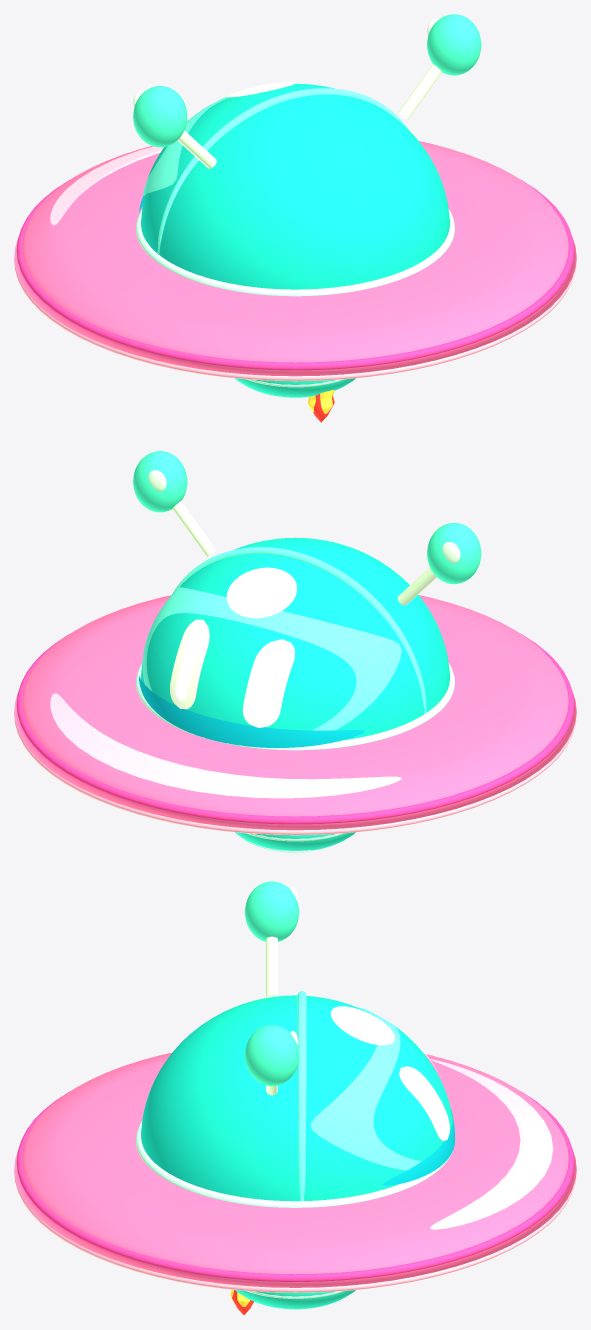
Rendered from ship-03.glb.
3 views of the same model, one above another, from view 1: azimuth 30°, elevation 25°; view 2: azimuth 150°, elevation 25°; view 3: azimuth 270°, elevation 25° (orthographic).
Visible parts, largest first — view 1: 아담스키 R, engine-flame; view 2: 아담스키 R; view 3: 아담스키 R.
Part boxes in pixels (<box>): 아담스키 R: <box>14,14,576,397</box>; engine-flame: <box>307,390,334,422</box>; 아담스키 R: <box>14,451,576,852</box>; 아담스키 R: <box>14,881,576,1309</box>.
Size of the model in its own units: 27 by 19.06 by 27.
